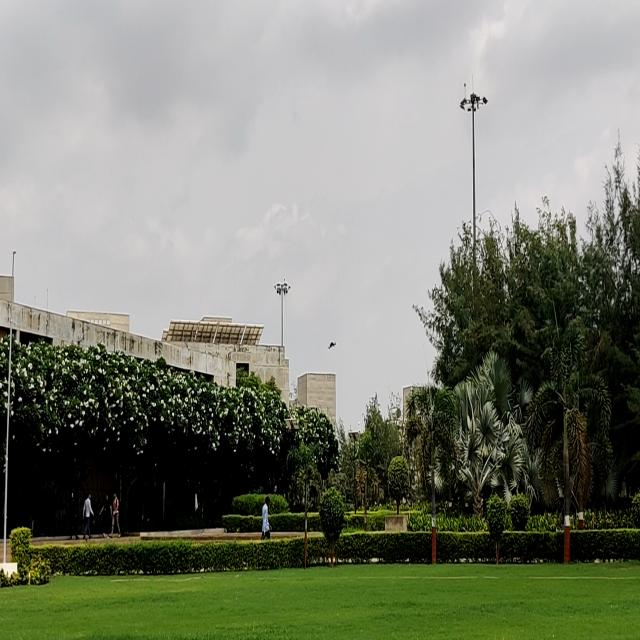drone: (323, 334, 341, 354)
